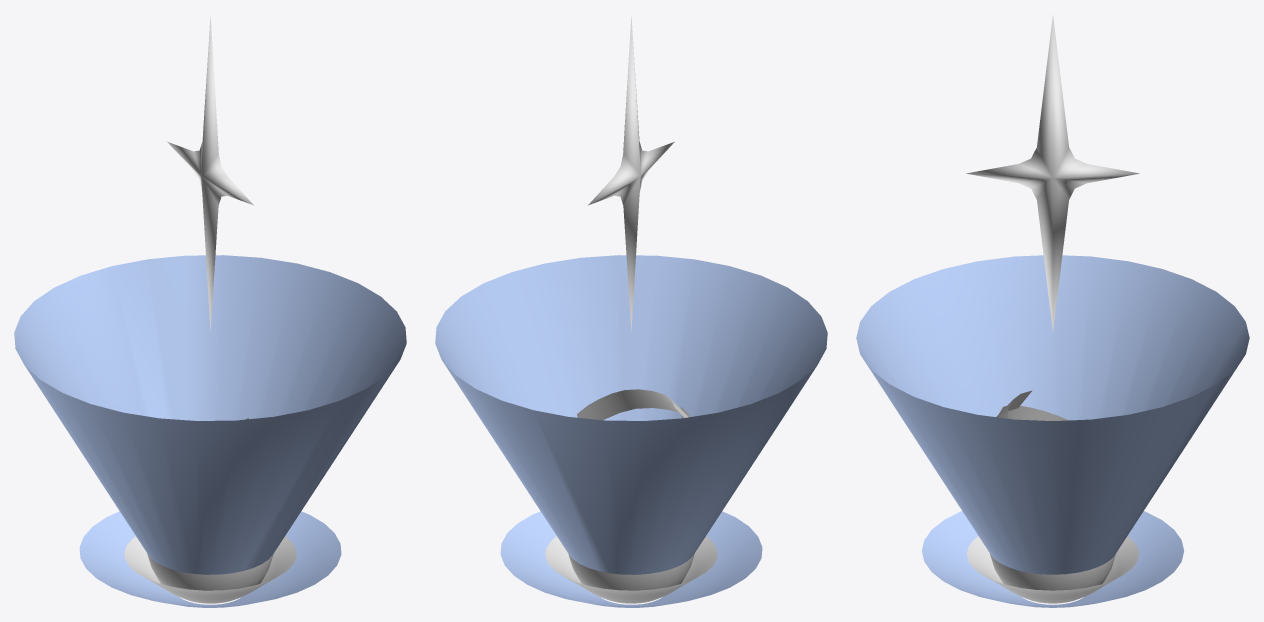
Rendered from Wisdom_effect_mesh1.fbx.
The picture shows the model from 3 angles, left to right: view 1: azimuth 30°, elevation 25°; view 2: azimuth 150°, elevation 25°; view 3: azimuth 270°, elevation 25°; orthographic projection.
Visible parts, largest first — view 1: big_air, ground_air, Plane, shockwave_bottom, shockwave; view 2: big_air, ground_air, Plane, shockwave_bottom, shockwave, round_air3; view 3: big_air, Plane, ground_air, shockwave_bottom, shockwave, round_air1.
Part boxes in pixels (left/top/right/bottom): big_air: left=14, top=255, right=406, bottom=574; ground_air: left=79, top=511, right=341, bottom=607; Plane: left=167, top=15, right=253, bottom=331; shockwave_bottom: left=124, top=536, right=296, bottom=601; shockwave: left=147, top=553, right=273, bottom=603; big_air: left=435, top=255, right=827, bottom=574; ground_air: left=500, top=511, right=762, bottom=607; Plane: left=588, top=15, right=674, bottom=331; shockwave_bottom: left=545, top=536, right=717, bottom=601; shockwave: left=568, top=553, right=694, bottom=603; round_air3: left=577, top=389, right=688, bottom=420; big_air: left=856, top=255, right=1249, bottom=574; Plane: left=966, top=15, right=1139, bottom=331; ground_air: left=922, top=511, right=1183, bottom=607; shockwave_bottom: left=967, top=536, right=1138, bottom=601; shockwave: left=990, top=554, right=1115, bottom=603; round_air1: left=999, top=405, right=1068, bottom=420.
Size of the model in its own units: 786 by 1275 by 786.
